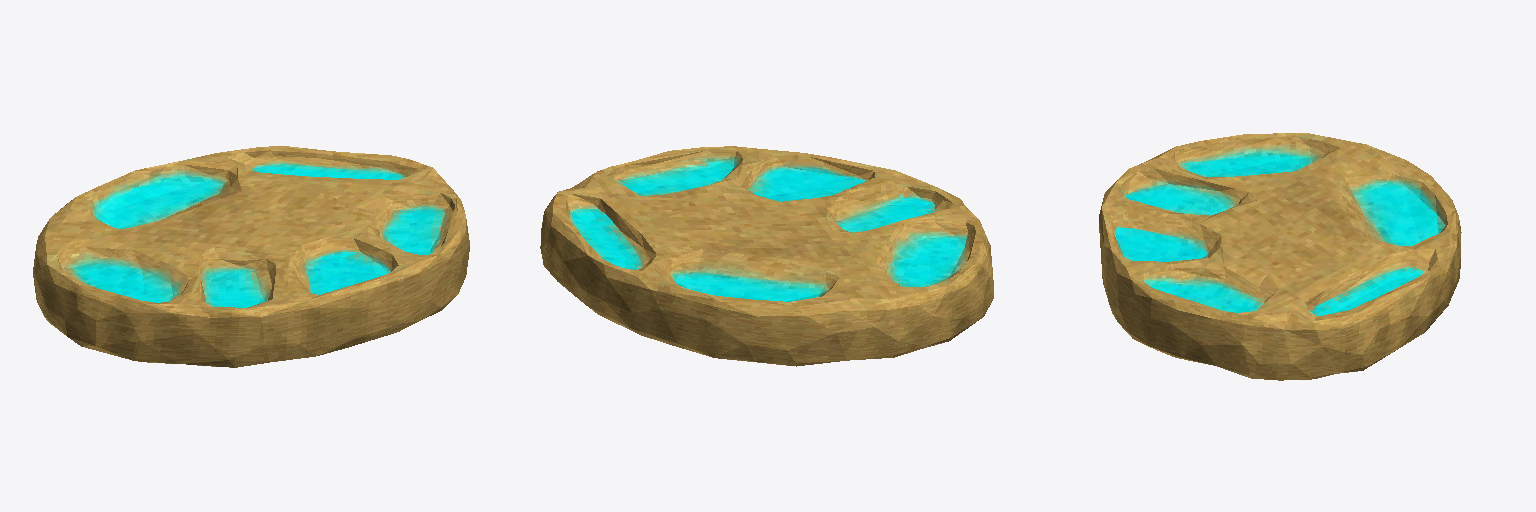
The picture shows the model from 3 angles: view 1: azimuth 30°, elevation 25°; view 2: azimuth 150°, elevation 25°; view 3: azimuth 270°, elevation 25°; orthographic projection.
Parts seen in each view (by area): view 1: art_stoneflower_Cylinder; view 2: art_stoneflower_Cylinder; view 3: art_stoneflower_Cylinder.
Boxes of the visible parts, box(x1,y1,x2,y2) form: art_stoneflower_Cylinder: box(33, 146, 469, 367); art_stoneflower_Cylinder: box(540, 146, 993, 366); art_stoneflower_Cylinder: box(1099, 133, 1461, 380).
Bounding box in the file's own units: 2.93 × 0.425 × 2.27.
1 materials, 1 textured.